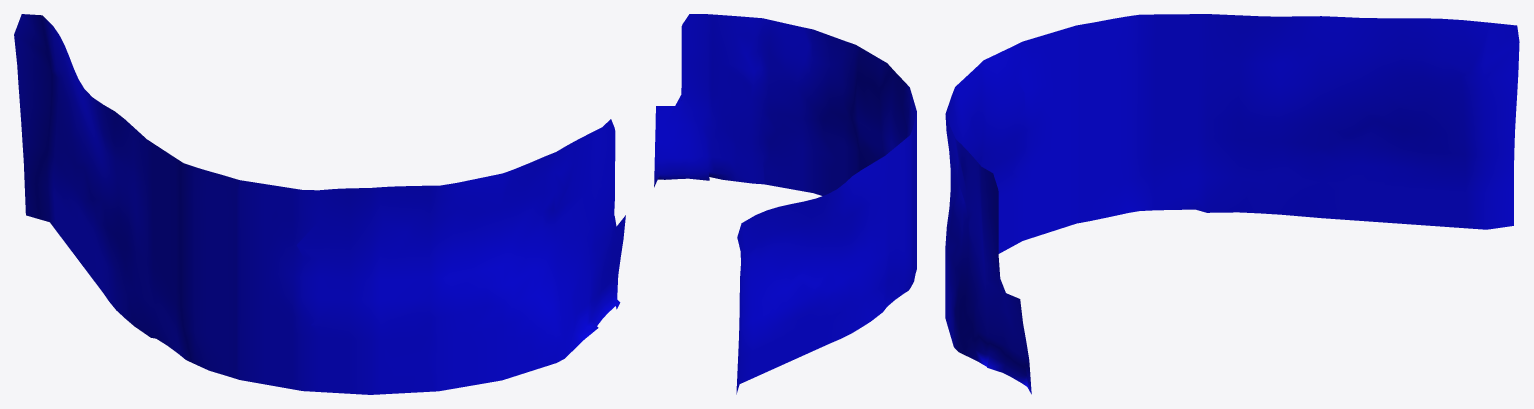
3 renders of one model, left to right at view 1: azimuth 30°, elevation 25°; view 2: azimuth 150°, elevation 25°; view 3: azimuth 270°, elevation 25°, orthographic. The views are drawn at different scales.
Visible parts, largest first — view 1: ET_forme2; view 2: ET_forme2; view 3: ET_forme2.
Boxes of the visible parts, x1=… form: ET_forme2: x1=14, y1=14, x2=625, y2=394; ET_forme2: x1=654, y1=14, x2=916, y2=394; ET_forme2: x1=945, y1=14, x2=1519, y2=394.
Size of the model in its own units: 0.5854 by 0.3092 by 0.764.
